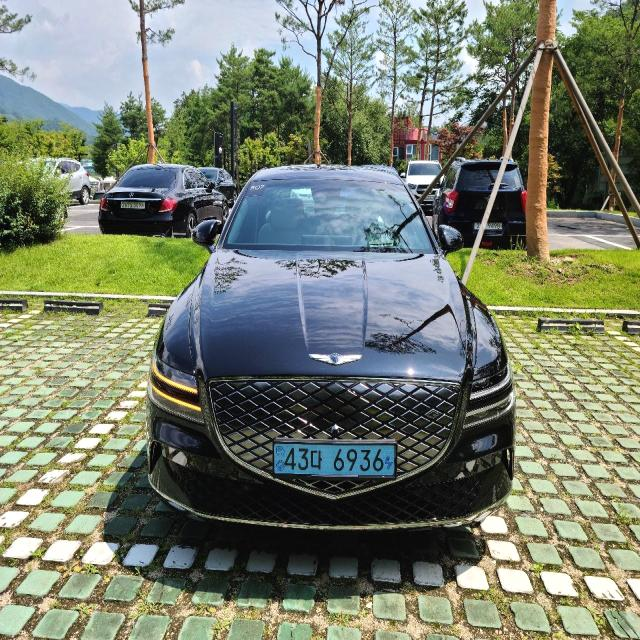EV_plate: (272, 439, 397, 484)
car: (144, 150, 522, 554)
